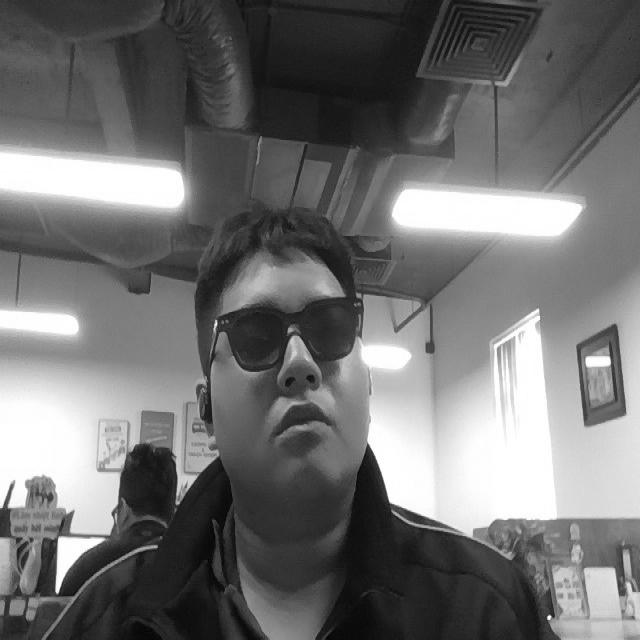fake: (213, 288, 369, 374)
real: (191, 219, 382, 516)
